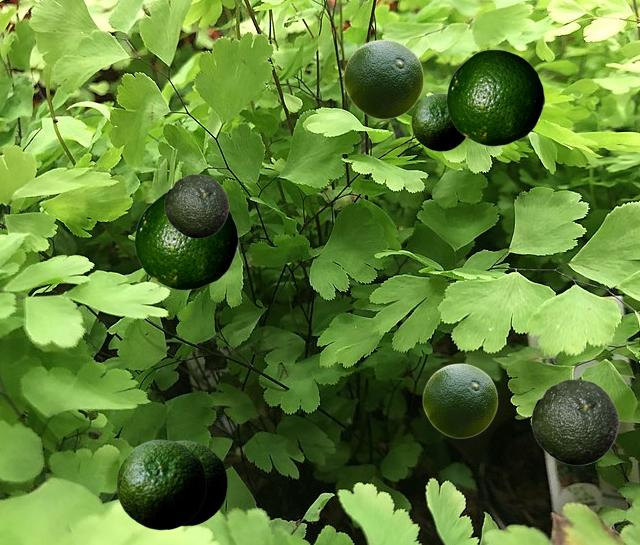calamansi: (134, 191, 238, 289), (446, 49, 544, 145), (116, 439, 205, 529), (531, 379, 618, 464), (343, 39, 423, 118), (422, 363, 497, 437), (176, 440, 226, 525), (164, 174, 228, 237), (411, 93, 465, 150)
